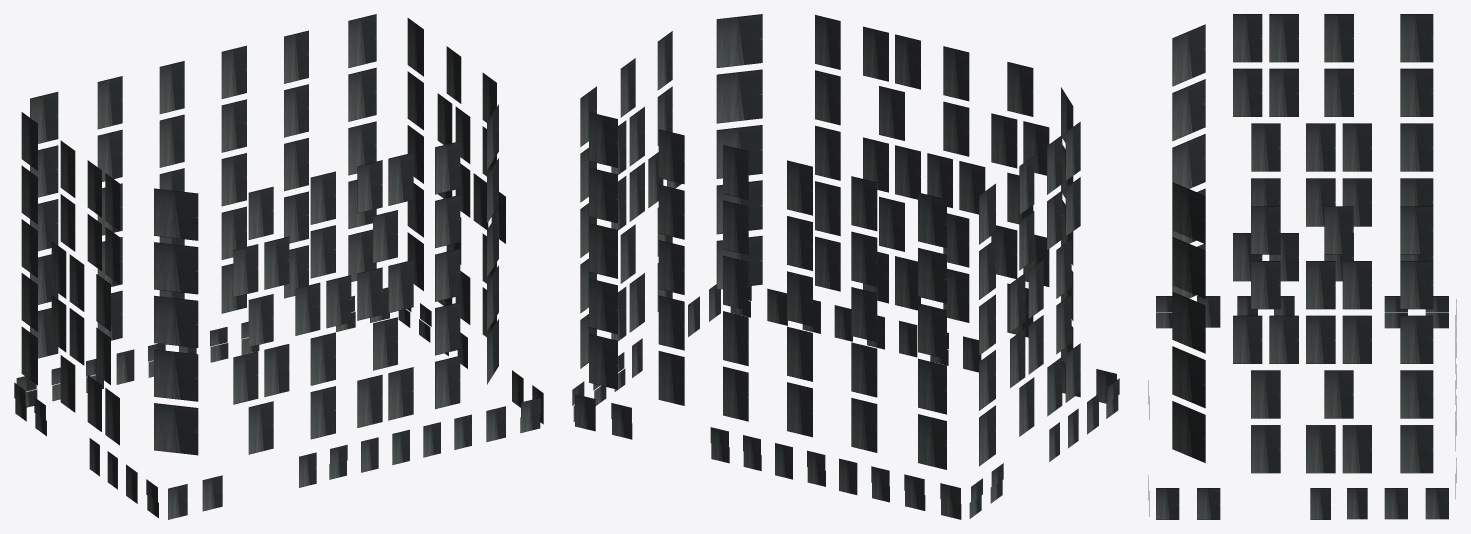
Rendered from TRANS_Building_6stores_Residential.obj.
The picture shows the model from 3 angles, left to right: view 1: azimuth 30°, elevation 25°; view 2: azimuth 150°, elevation 25°; view 3: azimuth 270°, elevation 25°; orthographic projection. The views are drawn at different scales.
Parts seen in each view (by area): view 1: TRANS_Building_6stores_Residential; view 2: TRANS_Building_6stores_Residential; view 3: TRANS_Building_6stores_Residential.
Boxes of the visible parts, x1,y1,x2,y2 form: TRANS_Building_6stores_Residential: (14,14,543,519); TRANS_Building_6stores_Residential: (572,14,1119,519); TRANS_Building_6stores_Residential: (1148,14,1456,519).
Bounding box in the file's own units: 8.16 × 6.21 × 5.53.
